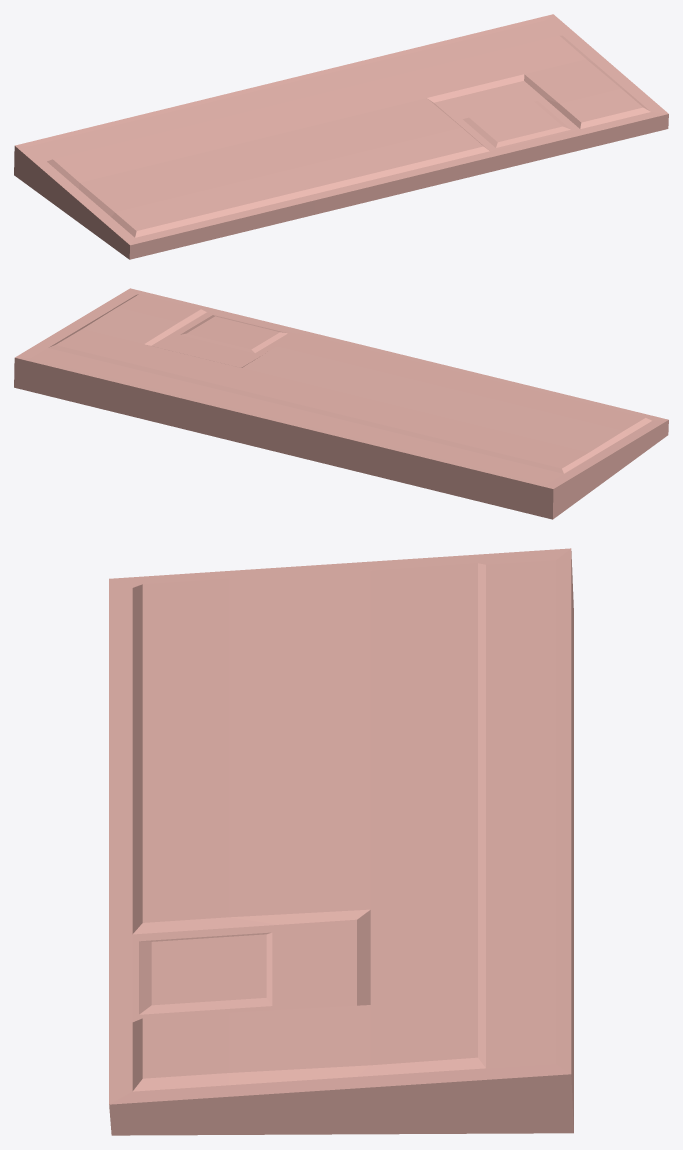
The model's file is MesaLTeclado.fbx.
3 renders of one model, top to bottom at view 1: azimuth 30°, elevation 25°; view 2: azimuth 150°, elevation 25°; view 3: azimuth 270°, elevation 25°, orthographic. The views are drawn at different scales.
Visible parts, largest first — view 1: TecladoPCA; view 2: TecladoPCA; view 3: TecladoPCA.
Boxes of the visible parts, box(x1,y1,x2,y2) form: TecladoPCA: box(14, 14, 668, 259); TecladoPCA: box(14, 288, 668, 519); TecladoPCA: box(109, 548, 573, 1135).
Bounding box in the file's own units: 32.84 × 1.79 × 12.27.
